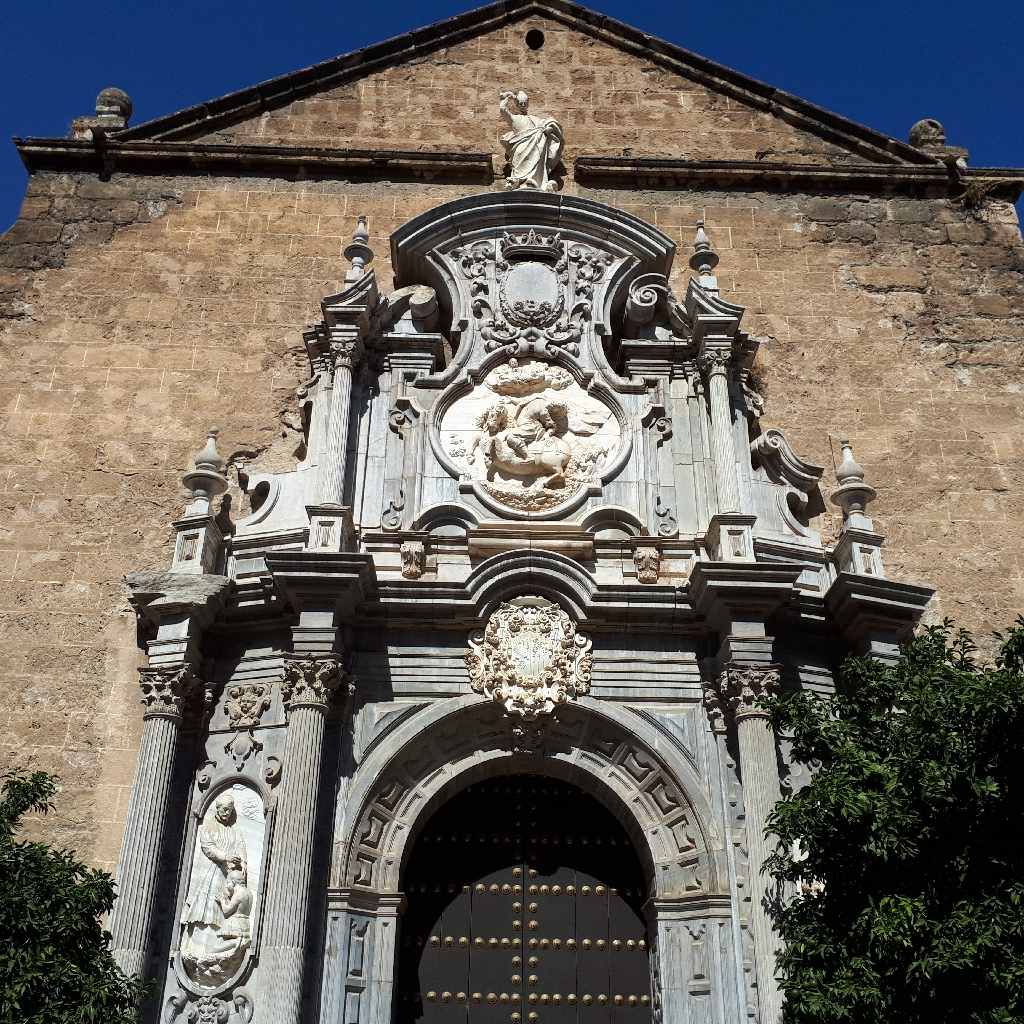arco-medio-punto: (383, 741, 677, 934)
